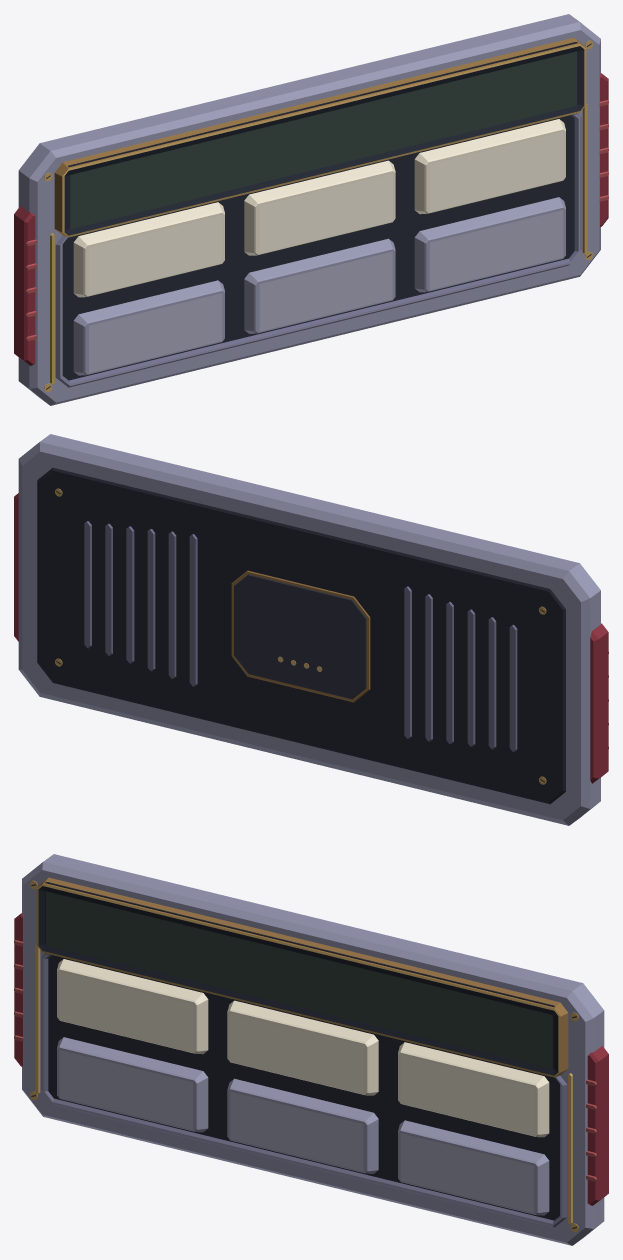
Rendered from vr-control-deck.glb.
The picture shows the model from 3 angles, top to bottom: view 1: azimuth 30°, elevation 25°; view 2: azimuth 150°, elevation 25°; view 3: azimuth 330°, elevation 25°; orthographic projection.
Visible parts, largest first — view 1: Deck_Chassis, Deck_Status, Deck_Trim, Deck_Well, KeyFace_Recenter, KeyFace_Station, KeyFace_Table, KeyFace_Map, KeyFace_Debug, KeyFace_Back, KeyBody_Station, KeyBody_Table (+4 smaller); view 2: Deck_Back, Deck_Chassis, Deck_Trim; view 3: Deck_Chassis, Deck_Status, Deck_Trim, Deck_Well, KeyFace_Debug, KeyFace_Station, KeyFace_Table, KeyFace_Back, KeyFace_Recenter, KeyFace_Map, KeyBody_Station, KeyBody_Table (+4 smaller).
Part boxes in pixels (x1,y1,x2,y2): Deck_Chassis: (18, 14, 600, 405); Deck_Status: (70, 51, 576, 229); Deck_Trim: (14, 37, 608, 391); Deck_Well: (63, 42, 577, 380); KeyFace_Recenter: (89, 293, 222, 373); KeyFace_Station: (259, 173, 392, 253); KeyFace_Table: (259, 251, 392, 331); KeyFace_Map: (89, 215, 222, 294); KeyFace_Debug: (430, 210, 563, 289); KeyFace_Back: (430, 132, 563, 211); KeyBody_Station: (244, 160, 395, 255); KeyBody_Table: (244, 238, 395, 333); Deck_Back: (37, 467, 565, 804); Deck_Chassis: (18, 434, 600, 825); Deck_Trim: (14, 488, 608, 784); Deck_Chassis: (22, 854, 604, 1245); Deck_Status: (46, 891, 552, 1069); Deck_Trim: (14, 877, 608, 1231); Deck_Well: (45, 882, 559, 1220); KeyFace_Debug: (400, 1133, 533, 1213); KeyFace_Station: (230, 1013, 363, 1093); KeyFace_Table: (230, 1091, 363, 1171); KeyFace_Back: (400, 1055, 533, 1134); KeyFace_Recenter: (59, 1050, 192, 1129); KeyFace_Map: (59, 972, 192, 1051); KeyBody_Station: (227, 1000, 378, 1095); KeyBody_Table: (227, 1078, 378, 1173).
Size of the model in its own units: 0.36 by 0.15 by 0.028.
